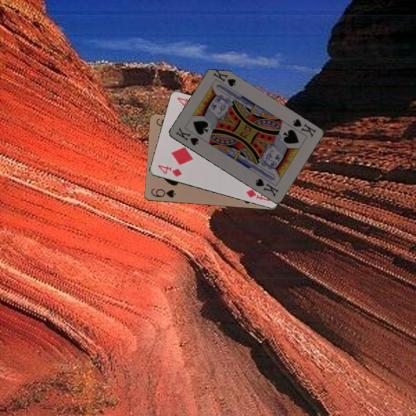4d: (155, 162, 182, 178)
6s: (149, 186, 176, 199)
Ks: (290, 116, 317, 139), (173, 125, 200, 147)
